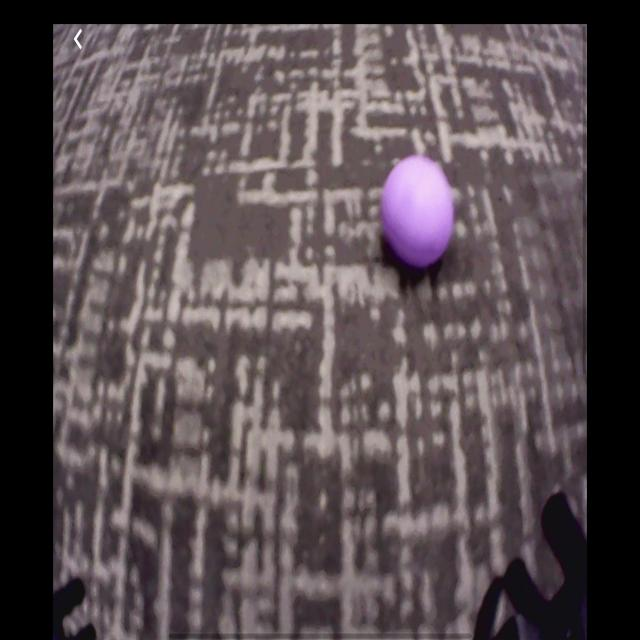ball: (378, 156, 456, 272)
